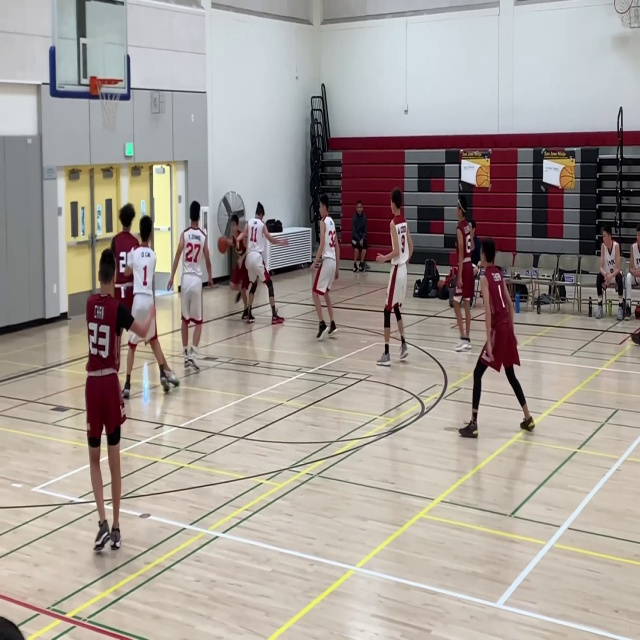Basketball: (217, 237, 229, 254)
